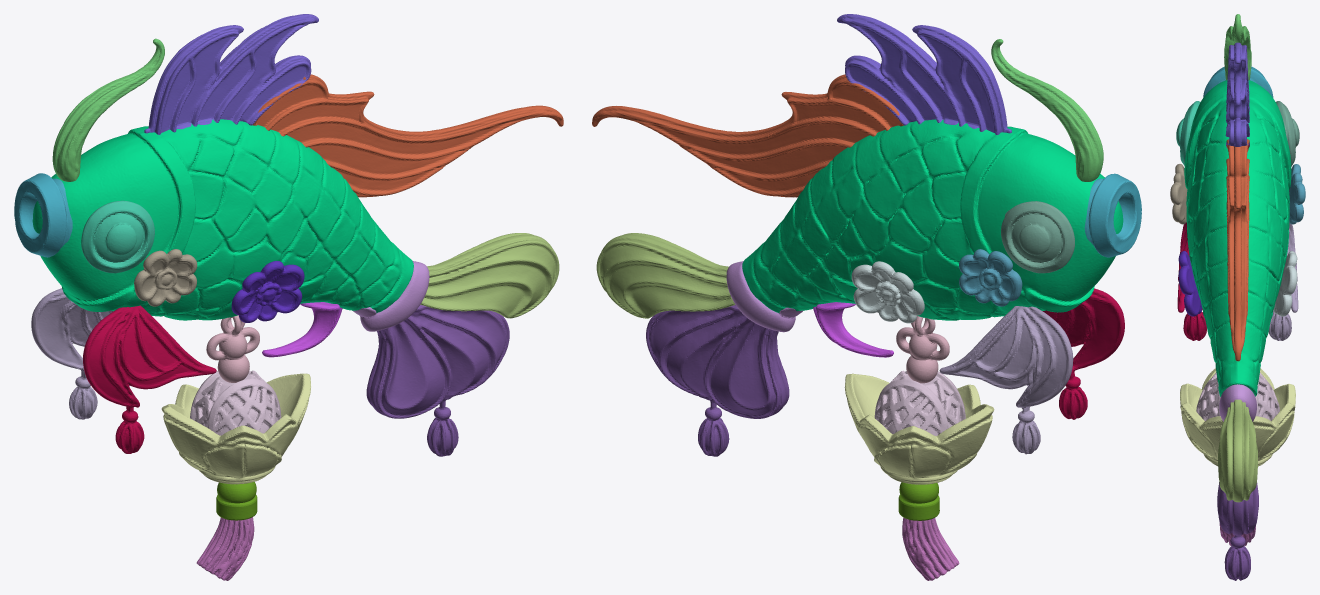
Rendered from generated_parts_assembled_50step.glb.
3 renders of one model, left to right at view 1: azimuth 30°, elevation 25°; view 2: azimuth 150°, elevation 25°; view 3: azimuth 270°, elevation 25°, orthographic. The views are drawn at different scales.
Parts seen in each view (by area): view 1: tmp6t5bku4a.ply, tmpvw8cm96a.ply, tmpdch_yfm8.ply, tmpvxteijjz.ply, tmp3do7j21h.ply, tmp185oqo_5.ply, tmpxl88jdra.ply, tmpva52fzja.ply, tmpmp5vi_mj.ply, tmp23rooi83.ply, tmpltaf52er.ply, tmprlj280aj.ply (+7 smaller); view 2: tmp6t5bku4a.ply, tmpvw8cm96a.ply, tmpdch_yfm8.ply, tmpvxteijjz.ply, tmpva52fzja.ply, tmp185oqo_5.ply, tmpxl88jdra.ply, tmp3do7j21h.ply, tmpmhtwi3ei.ply, tmp23rooi83.ply, tmpltaf52er.ply, tmprlj280aj.ply (+7 smaller); view 3: tmp6t5bku4a.ply, tmpvw8cm96a.ply, tmpxl88jdra.ply, tmp185oqo_5.ply, tmpdch_yfm8.ply, tmpvxteijjz.ply, tmp23rooi83.ply, tmpmh5lrj4m.ply, tmp3do7j21h.ply, tmp8kk68sim.ply, tmpva52fzja.ply, tmpltaf52er.ply (+7 smaller).
Boxes of the visible parts, x1,y1,x2,y2 form: tmp6t5bku4a.ply: (32,119,413,320); tmpvw8cm96a.ply: (252,74,563,197); tmpdch_yfm8.ply: (366,305,509,456); tmpvxteijjz.ply: (144,14,318,134); tmp3do7j21h.ply: (83,305,216,453); tmp185oqo_5.ply: (420,233,559,318); tmpxl88jdra.ply: (161,373,310,484); tmpva52fzja.ply: (31,288,112,419); tmpmp5vi_mj.ply: (81,200,154,273); tmp23rooi83.ply: (190,370,281,435); tmpltaf52er.ply: (52,38,164,181); tmprlj280aj.ply: (14,173,72,257); tmp6t5bku4a.ply: (742,119,1123,320); tmpvw8cm96a.ply: (592,74,903,197); tmpdch_yfm8.ply: (646,305,789,456); tmpvxteijjz.ply: (837,14,1011,134); tmpva52fzja.ply: (939,306,1073,454); tmp185oqo_5.ply: (596,233,735,318); tmpxl88jdra.ply: (844,373,994,484); tmp3do7j21h.ply: (1042,288,1124,419); tmpmhtwi3ei.ply: (1001,201,1074,273); tmp23rooi83.ply: (874,370,965,435); tmpltaf52er.ply: (991,39,1103,181); tmprlj280aj.ply: (1084,173,1141,257); tmp6t5bku4a.ply: (1184,80,1291,396); tmpvw8cm96a.ply: (1226,139,1249,361); tmpxl88jdra.ply: (1180,368,1295,466); tmp185oqo_5.ply: (1218,399,1257,502); tmpdch_yfm8.ply: (1217,482,1258,580); tmpvxteijjz.ply: (1225,42,1249,147); tmp23rooi83.ply: (1196,372,1279,421); tmpmh5lrj4m.ply: (1178,251,1202,316); tmp3do7j21h.ply: (1177,222,1206,340); tmp8kk68sim.ply: (1273,251,1297,316); tmpva52fzja.ply: (1268,222,1298,340); tmpltaf52er.ply: (1224,14,1251,80).
Bounding box in the file's own units: 1.05 × 1.04 × 0.254.
